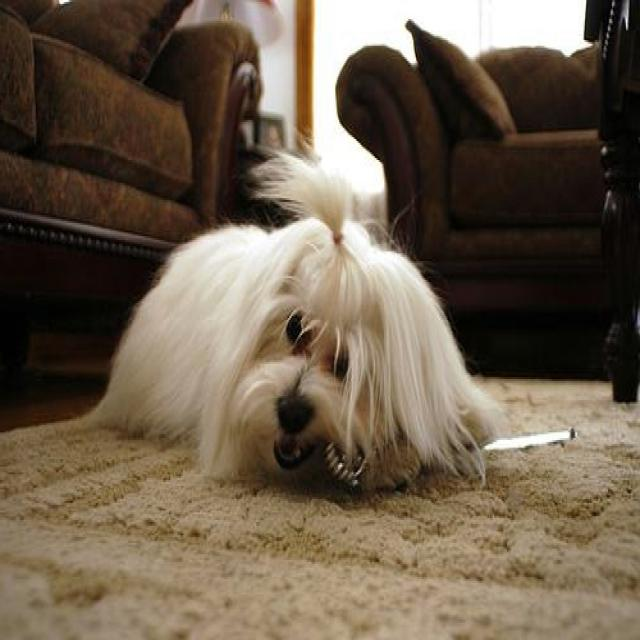maltese_dog: (84, 135, 512, 497)
